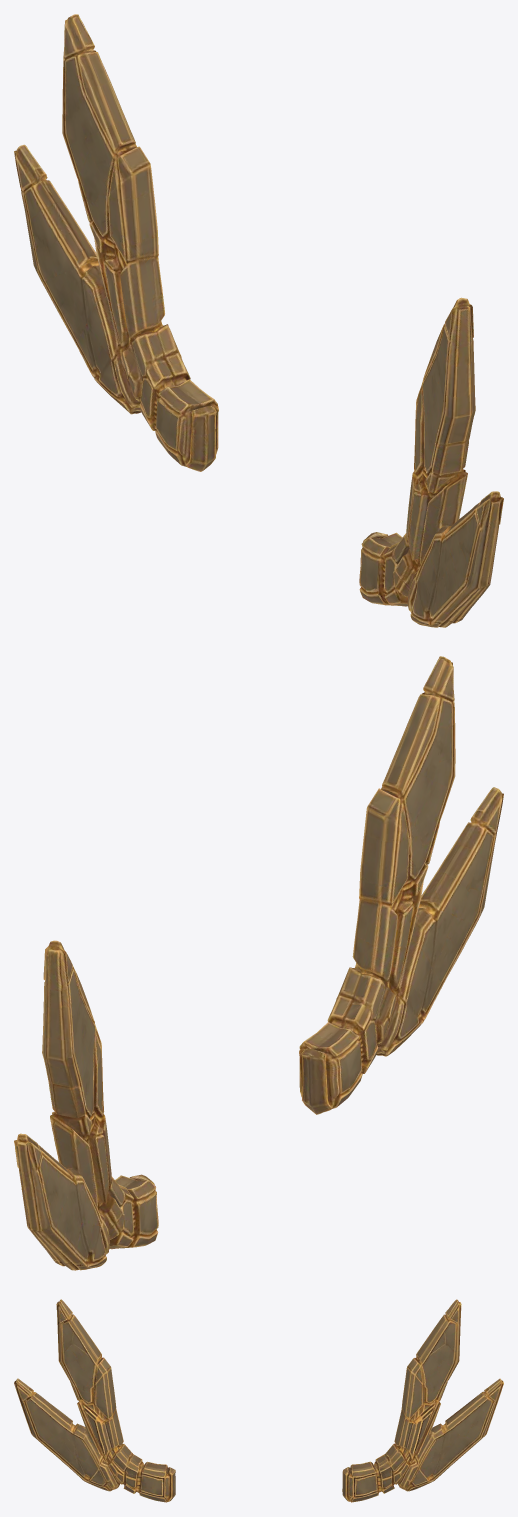
The model's file is rank-3-rich-512.glb.
The picture shows the model from 3 angles, top to bottom: view 1: azimuth 30°, elevation 25°; view 2: azimuth 150°, elevation 25°; view 3: azimuth 270°, elevation 25°; orthographic projection. The views are drawn at different scales.
Visible parts, largest first — view 1: chassis; view 2: chassis; view 3: chassis.
Part boxes in pixels (x1,y1,x2,y2): chassis: (14,14,503,627); chassis: (14,656,503,1270); chassis: (14,1299,503,1502).
Size of the model in its own units: 0.0632 by 0.3802 by 0.86.
1 material, 1 textured.
